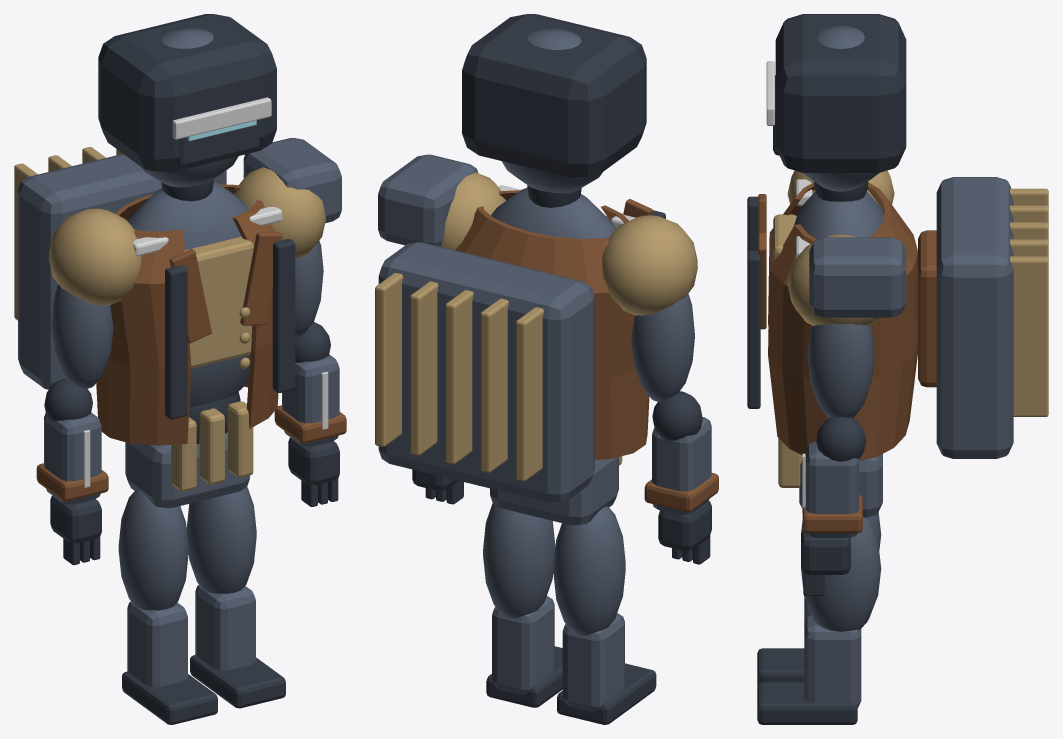
File: polybot.glb
The picture shows the model from 3 angles, left to right: view 1: azimuth 30°, elevation 25°; view 2: azimuth 150°, elevation 25°; view 3: azimuth 270°, elevation 25°; orthographic projection. The views are drawn at different scales.
Visible parts, largest first — view 1: Industrial square visor housing, Fabricator utility harness, Automation dorsal power pack, Shoulder R, Thigh R, Articulated thorax, Thigh L, Sternum shield, Upper arm R, Shin L, Shin R, Pelvis (+26 smaller); view 2: Automation dorsal power pack, Industrial square visor housing, Fabricator utility harness, Shoulder R, Thigh R, Thigh L, Tool shoulder case, Upper arm R, Shin R, Shin L, Cooling radiator, Cooling radiator.001 (+15 smaller); view 3: Automation dorsal power pack, Industrial square visor housing, Fabricator utility harness, Tool shoulder case, Cooling radiator.004, Upper arm L, Thigh L, Shin L, Bracer L, Foot L, Articulated thorax, Fabricator dorsal battery (+20 smaller).
Boxes of the visible parts, x1,y1,x2,y2 form: Industrial square visor housing: (98,14,276,172); Fabricator utility harness: (96,184,278,445); Automation dorsal power pack: (18,154,226,389); Shoulder R: (49,208,141,305); Thigh R: (118,490,188,610); Articulated thorax: (128,182,250,406); Thigh L: (186,487,256,593); Sternum shield: (184,236,253,368); Upper arm R: (51,284,113,388); Shin L: (195,585,255,670); Shin R: (127,601,187,687); Pelvis: (125,432,249,508); Automation dorsal power pack: (378,242,594,503); Industrial square visor housing: (462,14,646,178); Fabricator utility harness: (455,190,649,459); Shoulder R: (602,215,697,315); Thigh R: (553,506,625,635); Thigh L: (483,503,555,618); Tool shoulder case: (378,154,478,246); Upper arm R: (631,293,694,401); Shin R: (562,613,624,712); Shin L: (492,596,554,695); Cooling radiator: (515,307,543,481); Cooling radiator.001: (480,298,508,472); Automation dorsal power pack: (936,177,1013,458); Industrial square visor housing: (775,14,906,172); Fabricator utility harness: (768,182,918,461); Tool shoulder case: (809,237,906,317); Cooling radiator.004: (1010,256,1048,416); Upper arm L: (807,323,874,418); Thigh L: (801,517,881,631); Shin L: (804,615,861,707); Bracer L: (806,441,859,537); Foot L: (757,682,857,724); Articulated thorax: (794,191,884,239); Fabricator dorsal battery: (918,230,936,387).
Size of the model in its own units: 1.01 by 2.2 by 0.9.
